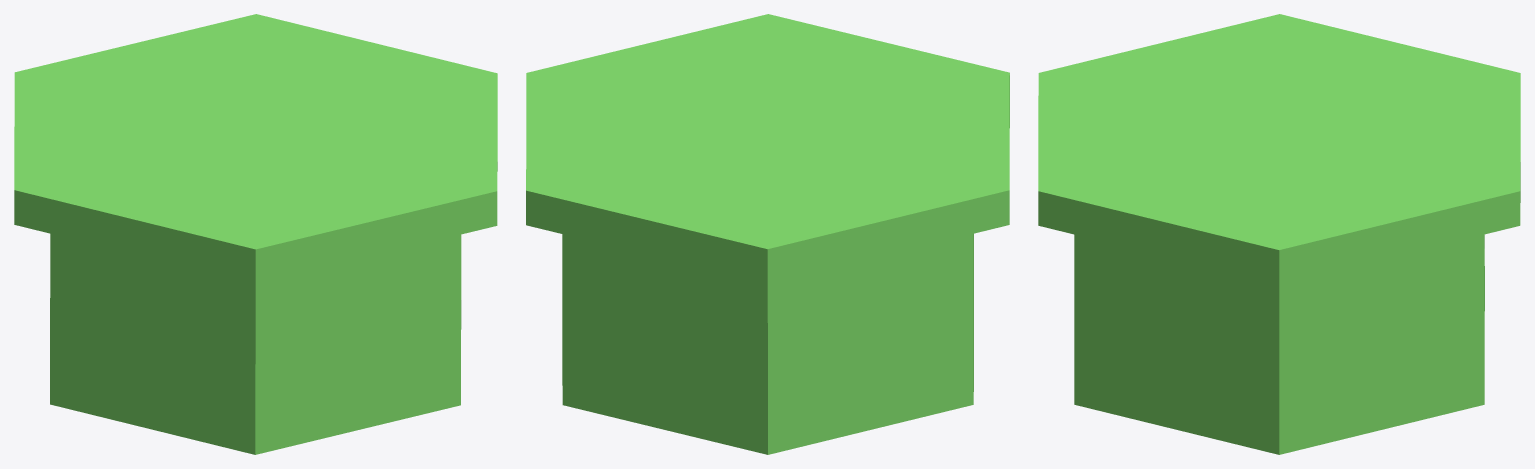
The model's file is PillarCaps_mesh 1.fbx.
3 views of the same model, side by side, from view 1: azimuth 30°, elevation 25°; view 2: azimuth 150°, elevation 25°; view 3: azimuth 270°, elevation 25° (orthographic).
Parts seen in each view (by area): view 1: PillarCaps_mesh; view 2: PillarCaps_mesh; view 3: PillarCaps_mesh.
Boxes of the visible parts, x1=… form: PillarCaps_mesh: x1=14, y1=14, x2=497, y2=454; PillarCaps_mesh: x1=526, y1=14, x2=1009, y2=454; PillarCaps_mesh: x1=1038, y1=14, x2=1520, y2=454.
Bounding box in the file's own units: 680 × 301 × 589.
